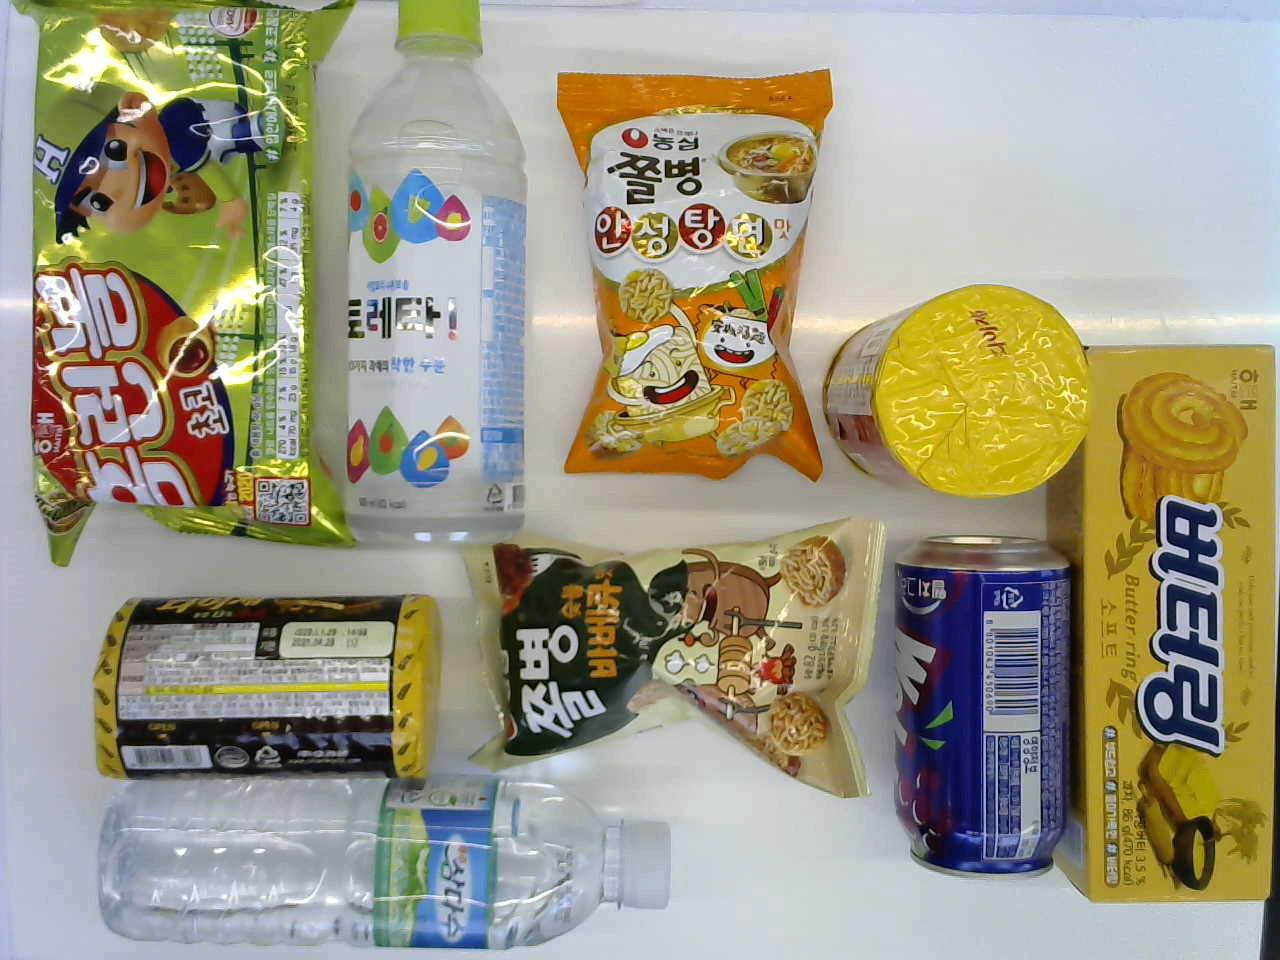buttering: (1065, 325, 1273, 915)
diget_choco: (85, 586, 440, 801)
diget_ori: (828, 262, 1089, 508)
homerunball: (10, 0, 348, 559)
jjolbyung_noodle: (552, 44, 827, 494)
jjolbyung_ori: (484, 511, 867, 817)
samdasu: (95, 742, 674, 946)
toreta: (344, 0, 531, 556)
welchs: (878, 529, 1074, 924)
